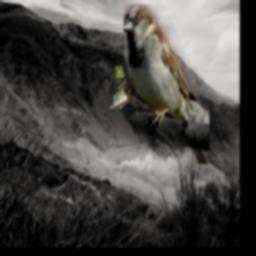Cuckoo: (108, 66, 130, 110)
Sparrow: (122, 5, 208, 165)
